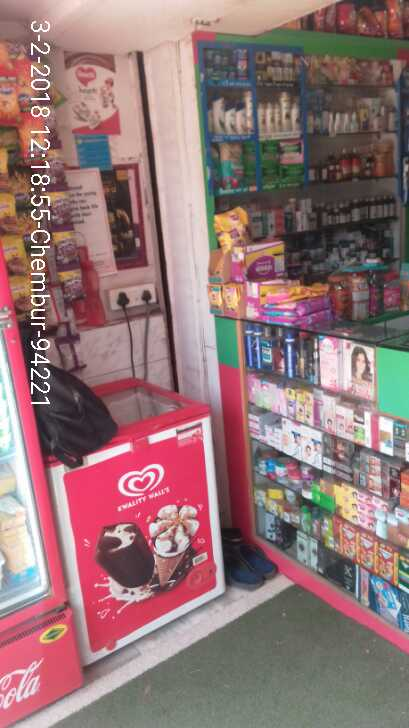vicks: (204, 47, 247, 80)
